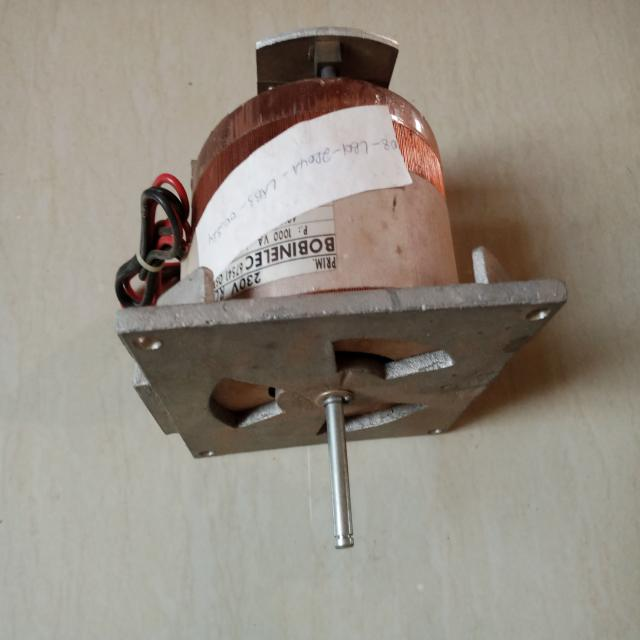AC Transformer: (111, 19, 573, 494)
